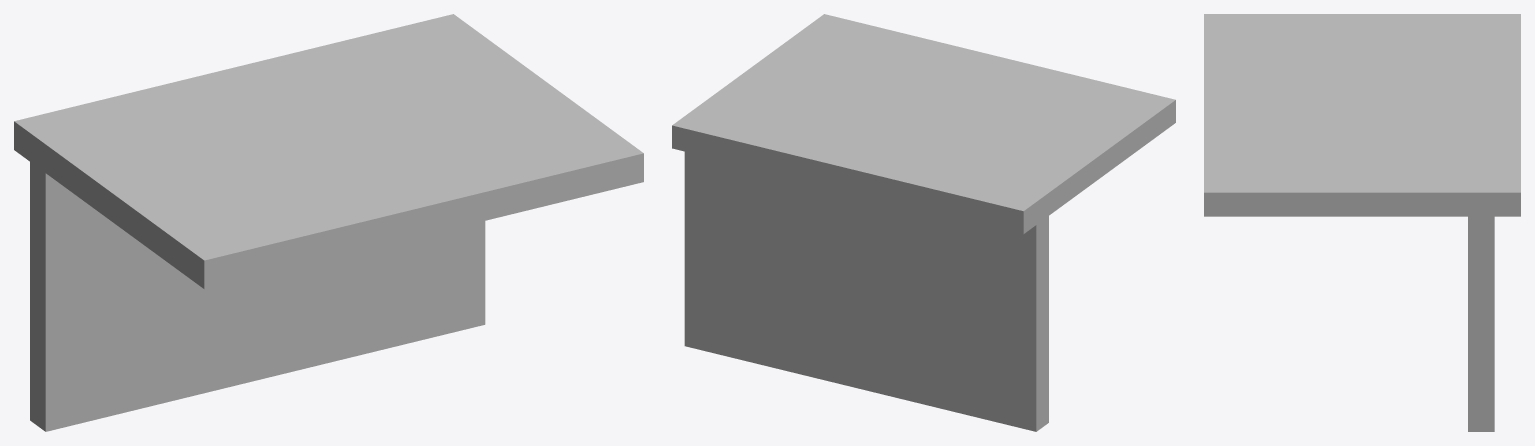
The model's file is Office_Table_Piece_White_02.gltf.
3 renders of one model, left to right at view 1: azimuth 30°, elevation 25°; view 2: azimuth 150°, elevation 25°; view 3: azimuth 270°, elevation 25°, orthographic. The views are drawn at different scales.
Visible parts, largest first — view 1: Node; view 2: Node; view 3: Node.
Boxes of the visible parts, bbox=[...] form: Node: bbox=[14, 14, 643, 431]; Node: bbox=[672, 14, 1175, 431]; Node: bbox=[1204, 14, 1520, 431].
Size of the model in its own units: 1.6 by 1 by 1.2.
Materials: 1 (1 with a texture image).
